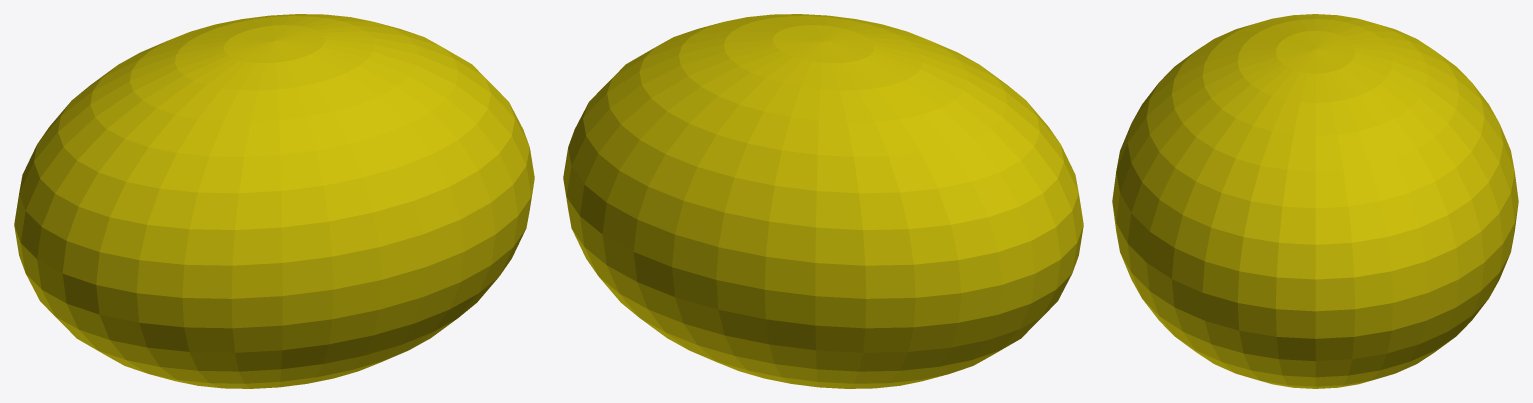
File: sol_10.obj
The picture shows the model from 3 angles, left to right: view 1: azimuth 30°, elevation 25°; view 2: azimuth 150°, elevation 25°; view 3: azimuth 270°, elevation 25°; orthographic projection. The views are drawn at different scales.
Visible parts, largest first — view 1: Sphere; view 2: Sphere; view 3: Sphere.
Part boxes in pixels (bbox=[...]): Sphere: bbox=[14, 14, 534, 388]; Sphere: bbox=[563, 14, 1083, 388]; Sphere: bbox=[1112, 14, 1518, 388].
Bounding box in the file's own units: 0.0138 × 0.00894 × 0.0108.
